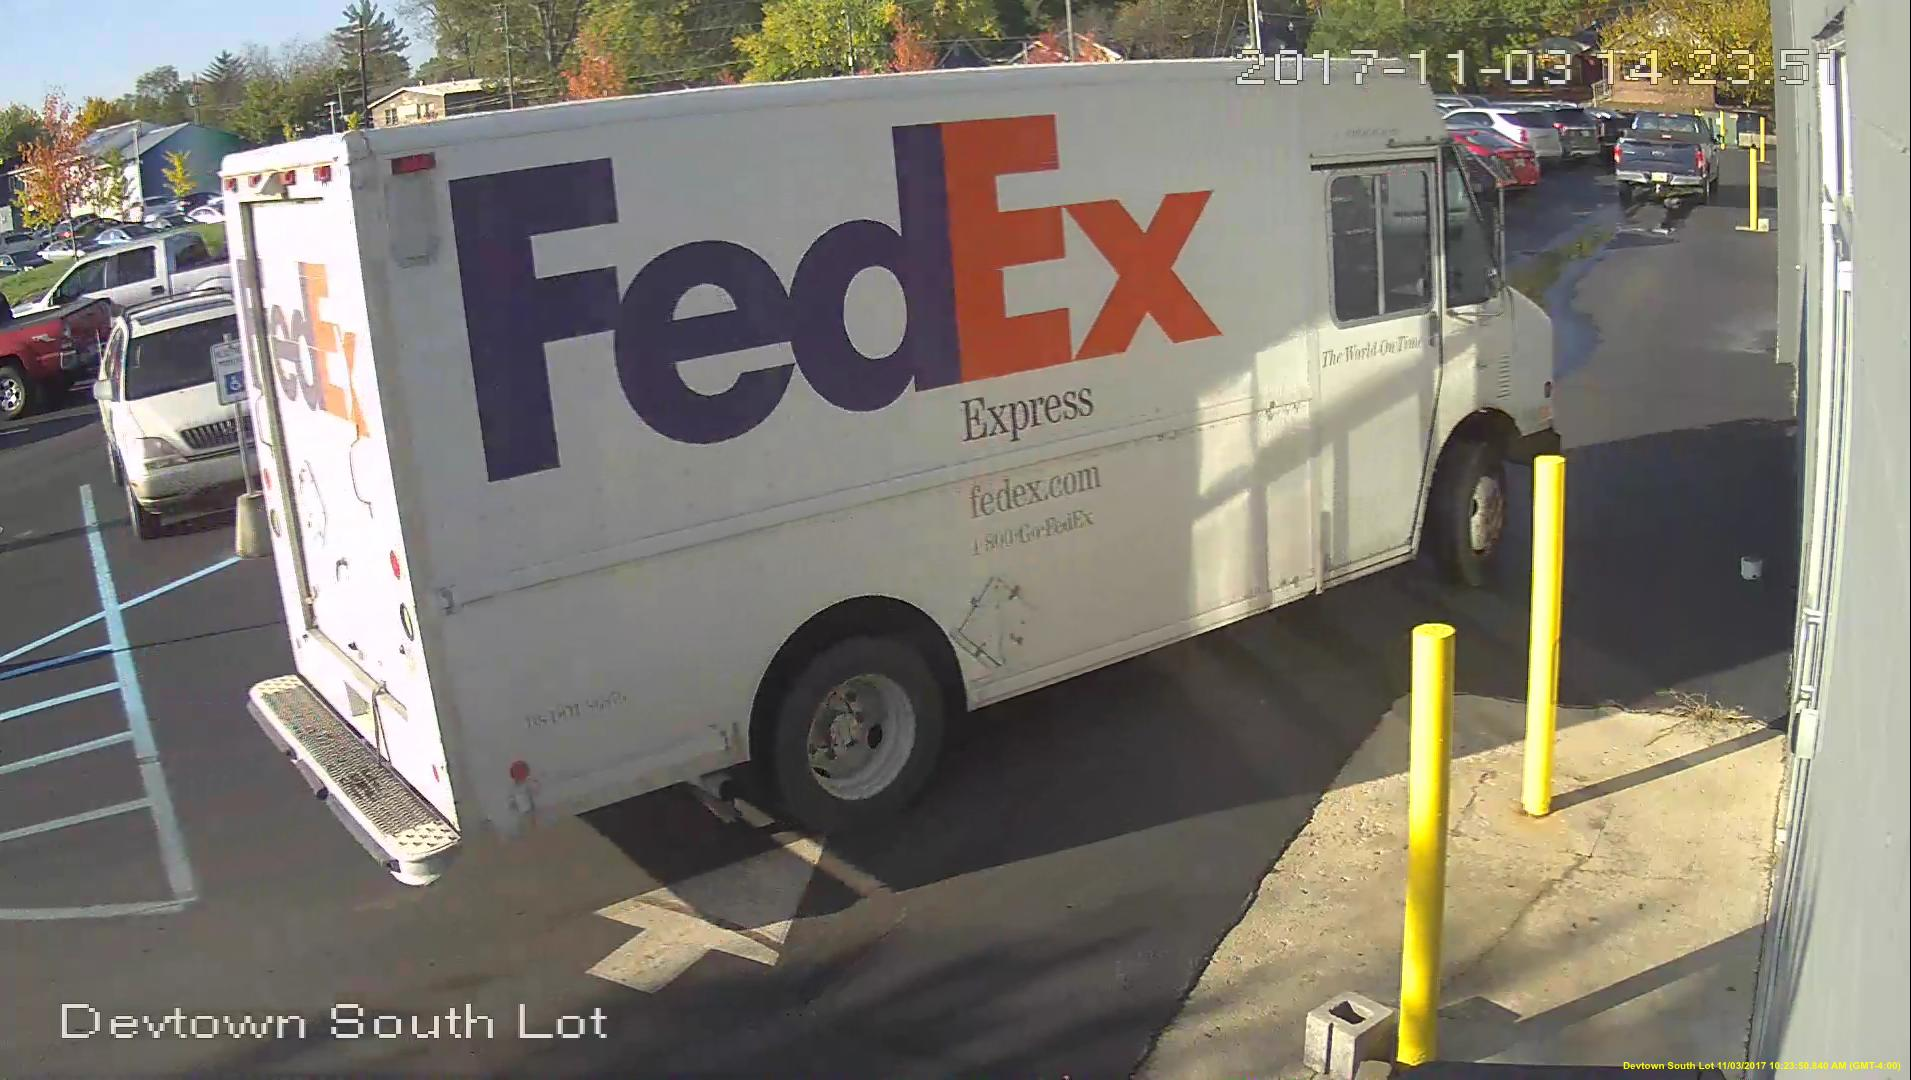fedex_truck: (222, 46, 1564, 882)
